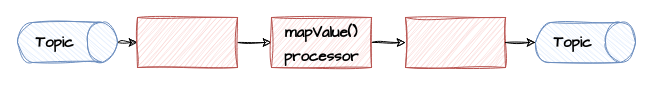
This 653x85 diagram has some shape labels left out. Each missing label, with the centre of its shape:
Sink Processor: [455,42]
Source Processor: [187,42]
